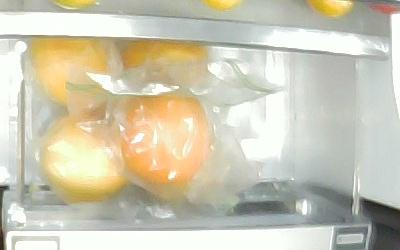grapefruit_vinyl: (122, 95, 209, 183), (41, 116, 124, 201), (29, 39, 110, 108), (119, 46, 209, 85)
